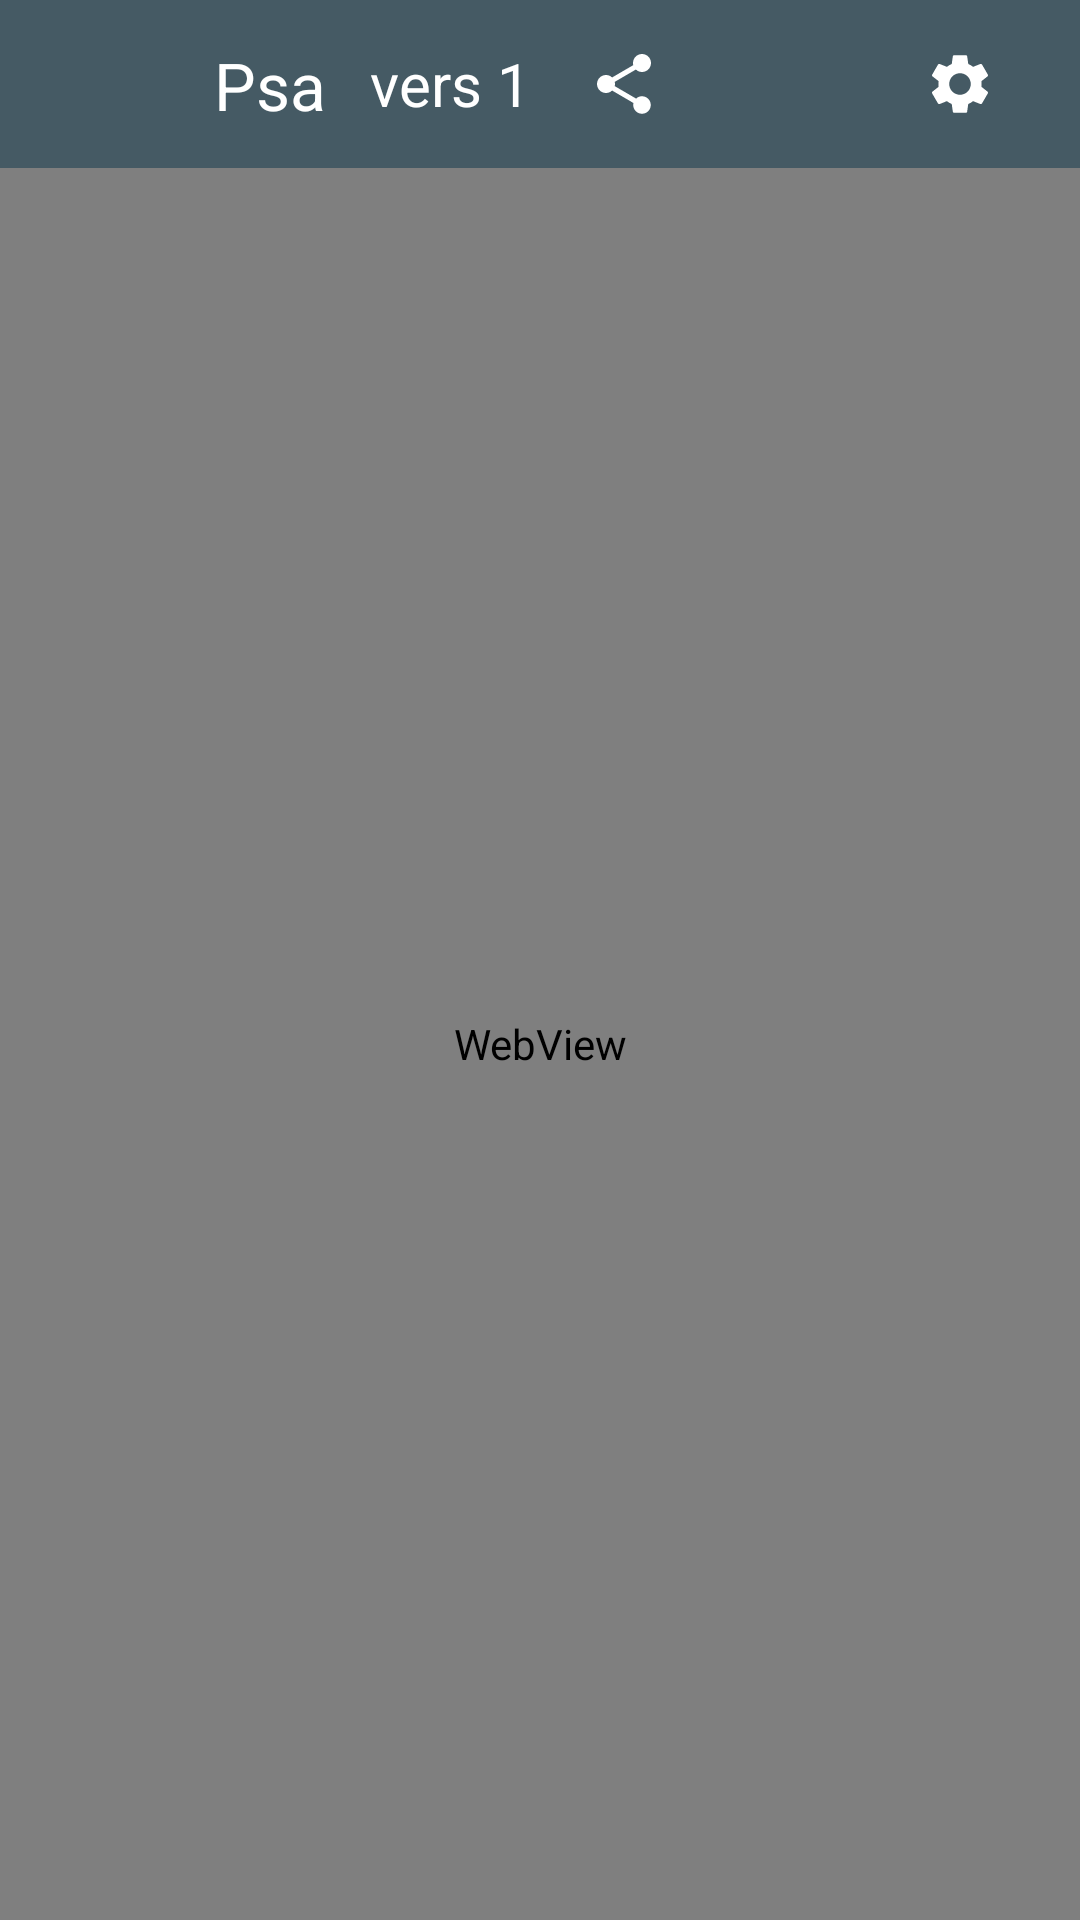

Screen size 1080px x 1920px. Icon name, then its box in pixels as (x1, y1, x2, y2):
Delen als PDF: (597, 54, 651, 114)
Instellingen: (932, 55, 988, 113)
